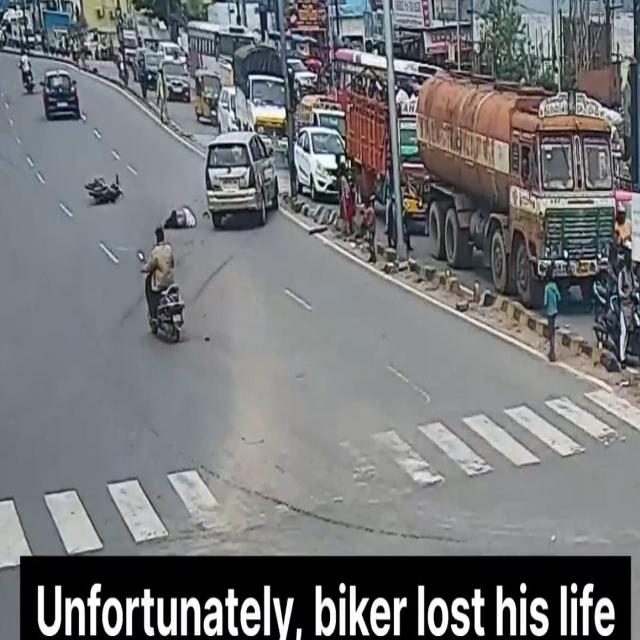accident: (158, 126, 284, 242), (81, 160, 127, 212)
non_accident: (411, 65, 640, 372), (292, 38, 411, 248), (0, 0, 200, 101), (200, 31, 288, 171)
